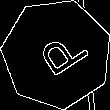P_SW: (25, 24, 88, 83)
